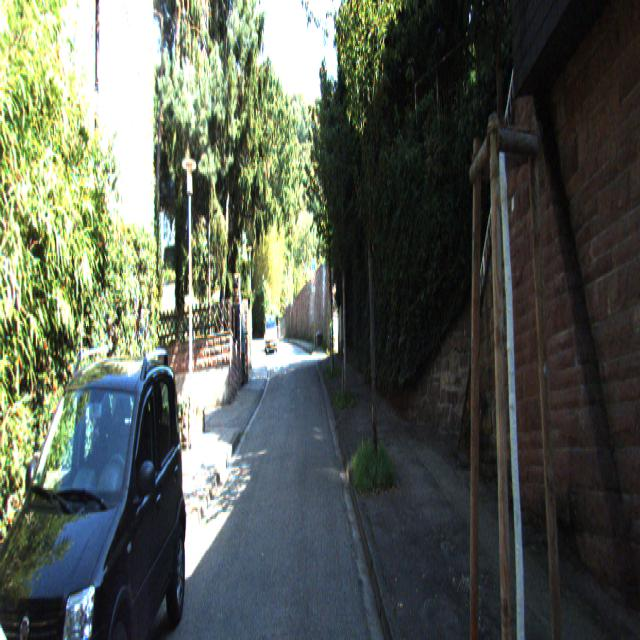Car: (0, 334, 185, 638), (265, 315, 278, 357)
